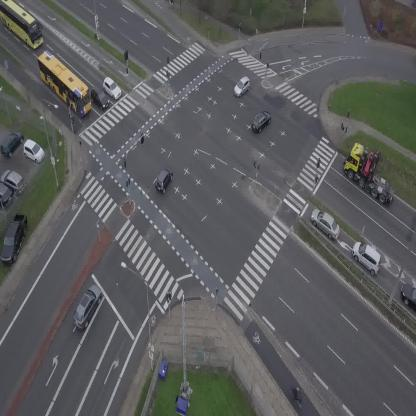bicycle: (289, 385, 306, 410), (68, 114, 75, 129), (168, 0, 176, 6)
bus: (29, 47, 101, 119)
car: (69, 281, 107, 331), (346, 237, 389, 278), (305, 205, 345, 242), (247, 107, 274, 135), (86, 85, 114, 112), (152, 164, 177, 194), (98, 75, 125, 101), (229, 74, 255, 99), (401, 284, 416, 310)
lorry: (335, 137, 411, 207)
